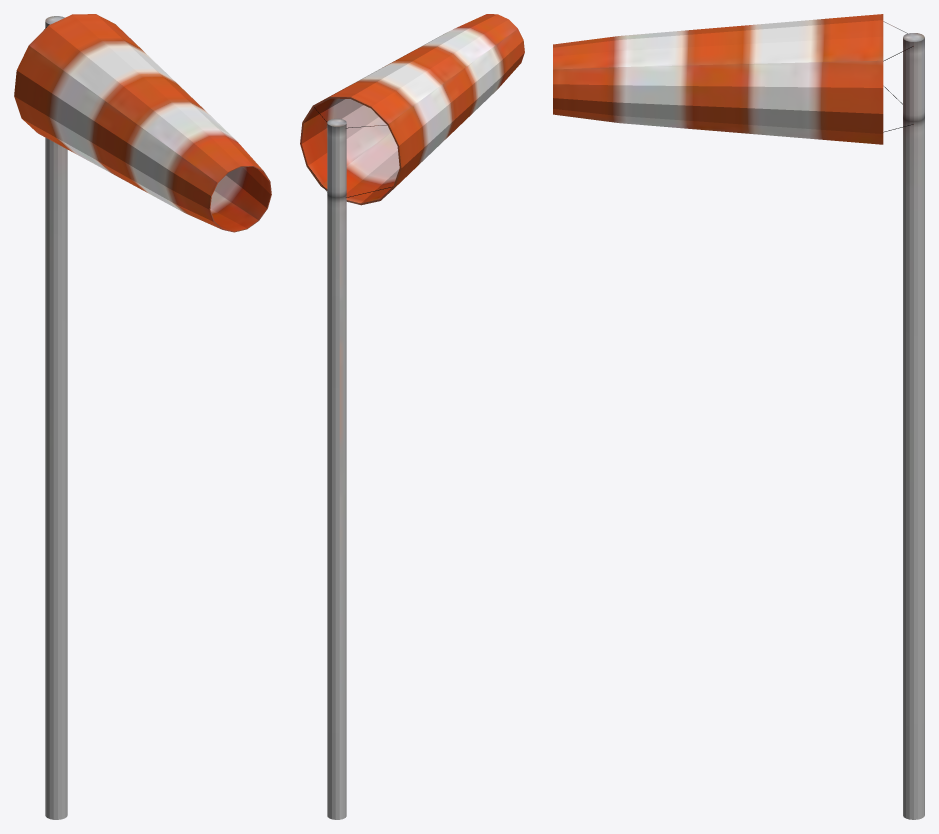
Rendered from windsock.lod1.glb.
3 renders of one model, left to right at view 1: azimuth 30°, elevation 25°; view 2: azimuth 150°, elevation 25°; view 3: azimuth 270°, elevation 25°, orthographic. The views are drawn at different scales.
Visible parts, largest first — view 1: Object_4; view 2: Object_4; view 3: Object_4.
Part boxes in pixels (box(x1,y1,x2,y2)): Object_4: box(14, 14, 271, 819); Object_4: box(300, 14, 524, 819); Object_4: box(553, 14, 924, 819).
Size of the model in its own units: 0.898 by 6 by 2.54.
Materials: 1 (1 with a texture image).
